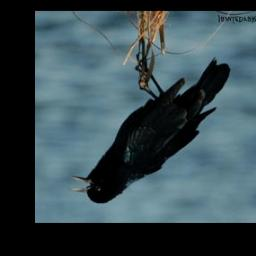Crow: (69, 53, 230, 204)
